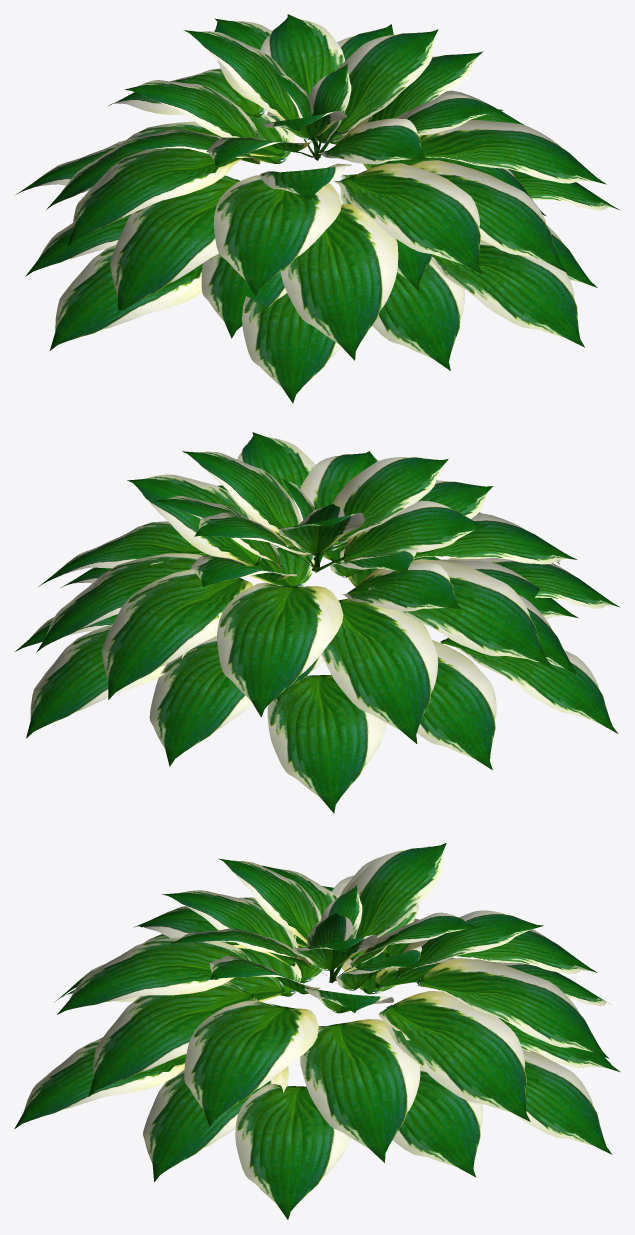
The model's file is giboushi.fbx.
3 renders of one model, top to bottom at view 1: azimuth 30°, elevation 25°; view 2: azimuth 150°, elevation 25°; view 3: azimuth 270°, elevation 25°, orthographic.
Parts seen in each view (by area): view 1: 平面.015, 平面.021, 平面.022, 平面.016, 平面.002, 平面.023, 平面.020, 平面.014, 平面.003, 平面.009, 平面.004, 平面.035 (+24 smaller); view 2: 平面.018, 平面.017, 平面.005, 平面.012, 平面.023, 平面.006, 平面.011, 平面, 平面.031, 平面.004, 平面.019, 平面.032 (+20 smaller); view 3: 平面.013, 平面.019, 平面.020, 平面.001, 平面.012, 平面.014, 平面.021, 平面.007, 平面.033, 平面.008, 平面, 平面.002 (+21 smaller).
Boxes of the visible parts, left/top/right/bottom form: 平面.015: left=280, top=204, right=398, bottom=360; 平面.021: left=334, top=163, right=482, bottom=274; 平面.022: left=213, top=175, right=341, bottom=296; 平面.016: left=110, top=175, right=239, bottom=310; 平面.002: left=431, top=239, right=584, bottom=347; 平面.023: left=67, top=148, right=241, bottom=246; 平面.020: left=418, top=119, right=606, bottom=184; 平面.014: left=411, top=160, right=566, bottom=272; 平面.003: left=242, top=293, right=341, bottom=403; 平面.009: left=372, top=254, right=464, bottom=370; 平面.004: left=50, top=245, right=202, bottom=350; 平面.035: left=314, top=29, right=438, bottom=160; 平面.018: left=217, top=582, right=343, bottom=717; 平面.017: left=321, top=598, right=438, bottom=743; 平面.005: left=267, top=674, right=386, bottom=813; 平面.012: left=102, top=569, right=252, bottom=699; 平面.023: left=368, top=559, right=552, bottom=665; 平面.006: left=149, top=635, right=252, bottom=766; 平面.011: left=417, top=640, right=496, bottom=770; 平面: left=26, top=624, right=185, bottom=738; 平面.031: left=313, top=457, right=448, bottom=560; 平面.004: left=440, top=638, right=617, bottom=733; 平面.019: left=36, top=553, right=202, bottom=652; 平面.032: left=315, top=500, right=486, bottom=572; 平面.013: left=300, top=1019, right=420, bottom=1162; 平面.019: left=378, top=991, right=530, bottom=1121; 平面.020: left=184, top=1000, right=318, bottom=1127; 平面.001: left=235, top=1083, right=351, bottom=1219; 平面.012: left=417, top=958, right=609, bottom=1058; 平面.014: left=88, top=981, right=257, bottom=1096; 平面.021: left=57, top=937, right=251, bottom=1014; 平面.007: left=392, top=1066, right=482, bottom=1177; 平面.033: left=333, top=843, right=446, bottom=978; 平面.008: left=143, top=1066, right=288, bottom=1181; 平面: left=514, top=1049, right=612, bottom=1154; 平面.002: left=14, top=1040, right=186, bottom=1128.
Size of the model in its own units: 289 by 104 by 271.
Materials: 1 (1 with a texture image).
